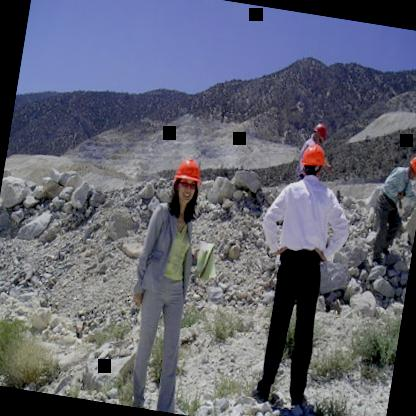helmet: (168, 157, 204, 208), (298, 142, 328, 180), (311, 122, 327, 147), (406, 152, 416, 180)
